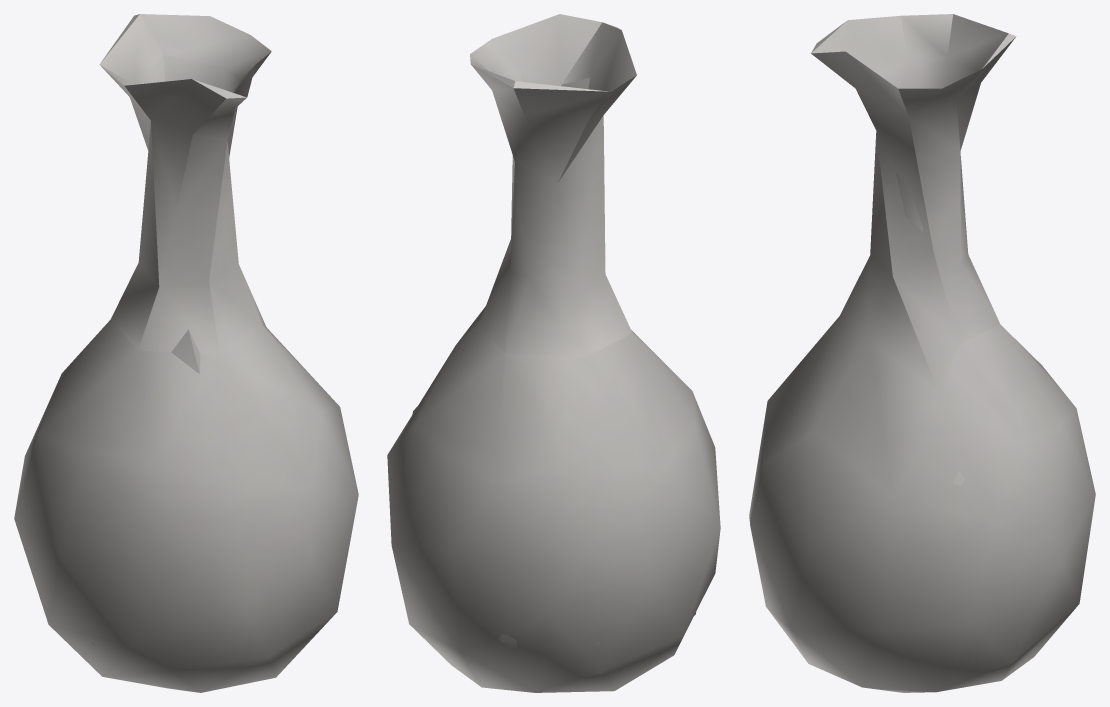
File: ceramic_vase_01.fbx
3 views of the same model, side by side, from view 1: azimuth 30°, elevation 25°; view 2: azimuth 150°, elevation 25°; view 3: azimuth 270°, elevation 25° (orthographic).
Parts seen in each view (by area): view 1: ceramic_vase_01; view 2: ceramic_vase_01; view 3: ceramic_vase_01.
Part boxes in pixels (x1,y1,x2,y2): ceramic_vase_01: [14, 14, 358, 692]; ceramic_vase_01: [387, 14, 720, 692]; ceramic_vase_01: [749, 14, 1095, 692].
Bounding box in the file's own units: 0.2056 × 0.4016 × 0.2055.
